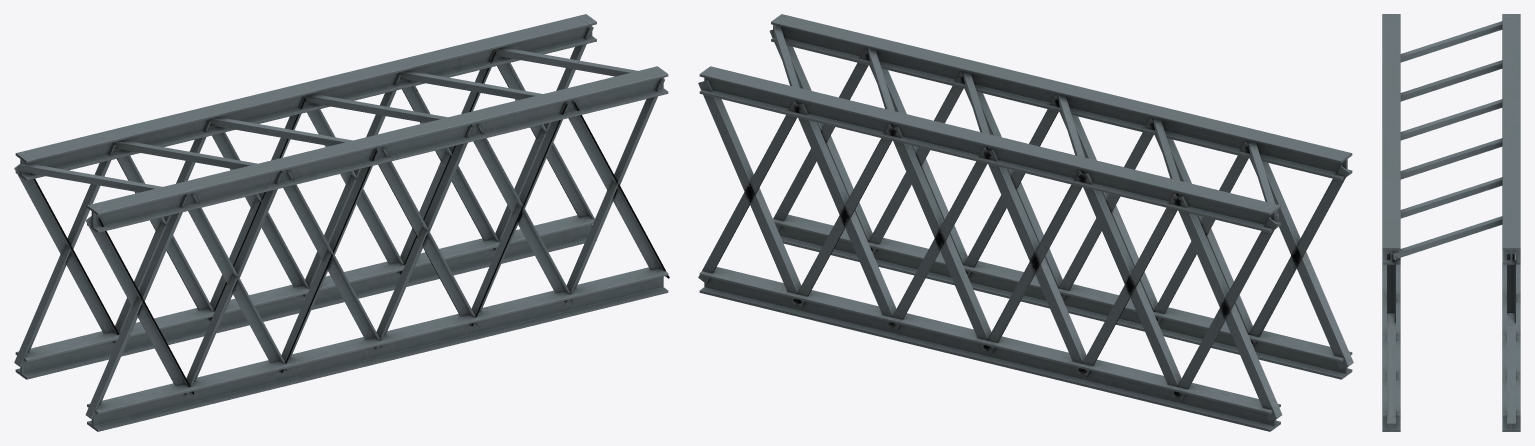
Rendered from roof_truss.glb.
3 renders of one model, left to right at view 1: azimuth 30°, elevation 25°; view 2: azimuth 150°, elevation 25°; view 3: azimuth 270°, elevation 25°, orthographic. The views are drawn at different scales.
Parts seen in each view (by area): view 1: body; view 2: body; view 3: body.
Boxes of the visible parts, bbox=[...] form: body: bbox=[14, 14, 669, 431]; body: bbox=[698, 14, 1353, 431]; body: bbox=[1382, 14, 1520, 431].
Size of the model in its own units: 6.09 by 2.2 by 1.5.
Materials: 1 (1 with a texture image).
